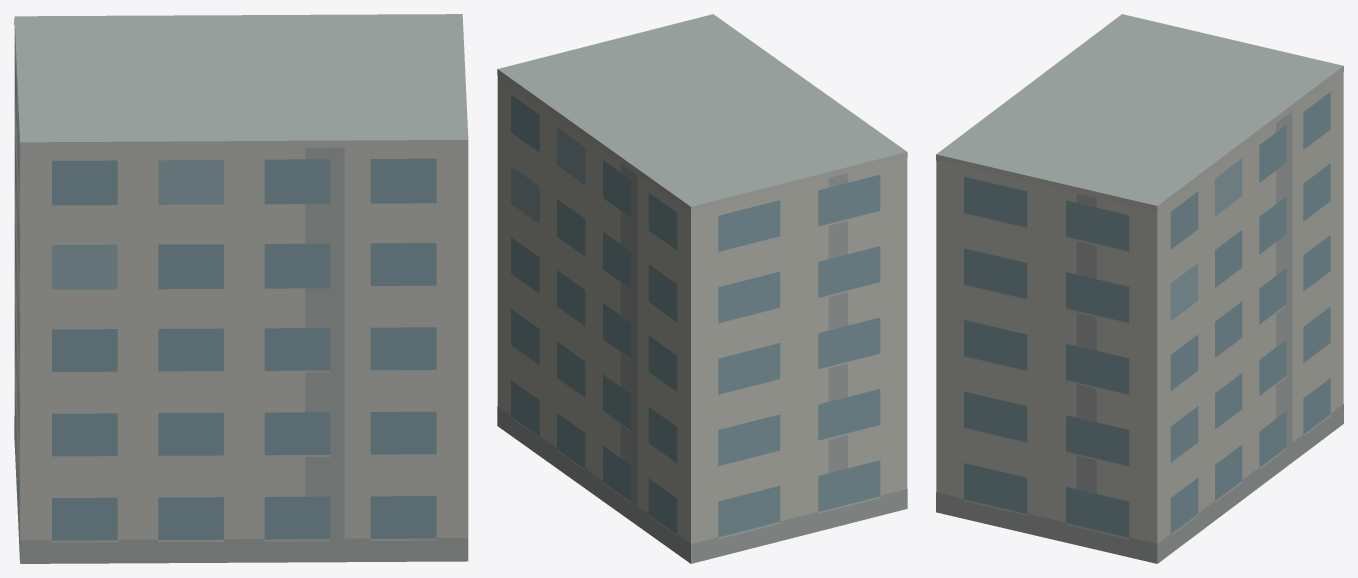
The model's file is survey-upis-32847824.glb.
The picture shows the model from 3 angles, left to right: view 1: azimuth 30°, elevation 25°; view 2: azimuth 150°, elevation 25°; view 3: azimuth 270°, elevation 25°; orthographic projection. The views are drawn at different scales.
Parts seen in each view (by area): view 1: survey-upis-32847824.tmp; view 2: survey-upis-32847824.tmp; view 3: survey-upis-32847824.tmp.
Part boxes in pixels (x1,y1,x2,y2): survey-upis-32847824.tmp: [14, 14, 468, 563]; survey-upis-32847824.tmp: [497, 14, 907, 563]; survey-upis-32847824.tmp: [936, 14, 1343, 563].
Size of the model in its own units: 16.34 by 14.2 by 14.67.
